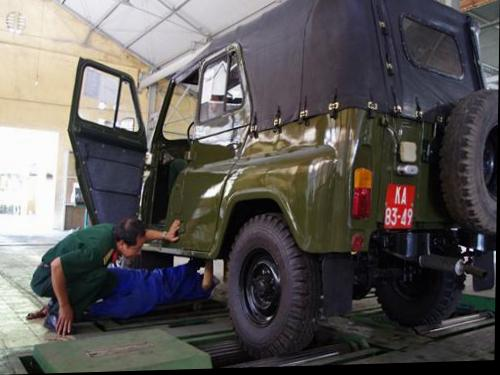License_Plate: (384, 182, 415, 233)
